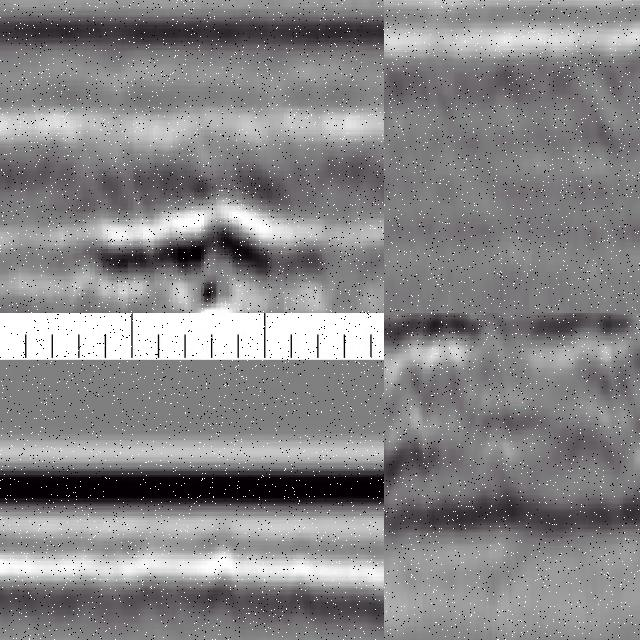loose: (385, 314, 640, 539), (90, 156, 326, 314)
